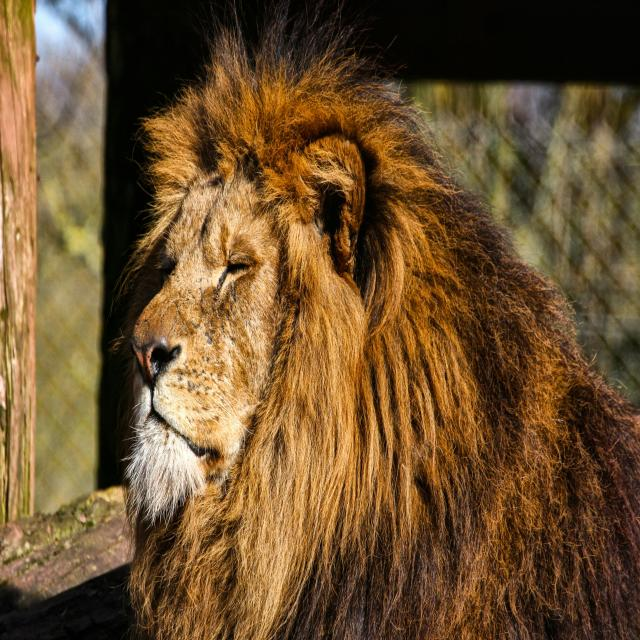Lion: (123, 32, 640, 640)
